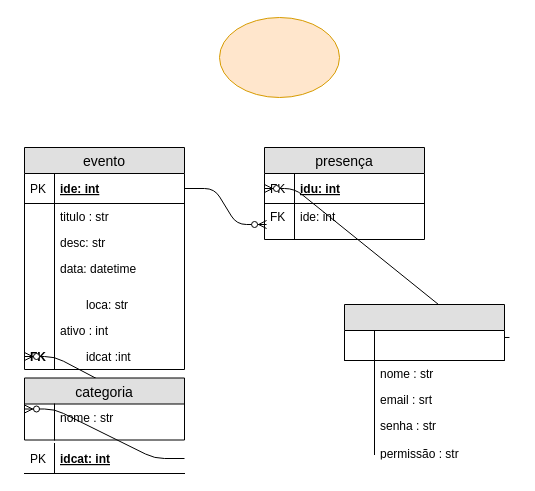
The diagram is 535 pixels wide and 491 high, and some of its shapes have lost their labels. The centre of each missing label's shape, as x and y in pixels:
"lógico" goes at point (279, 57).
"usuario" goes at point (424, 332).
